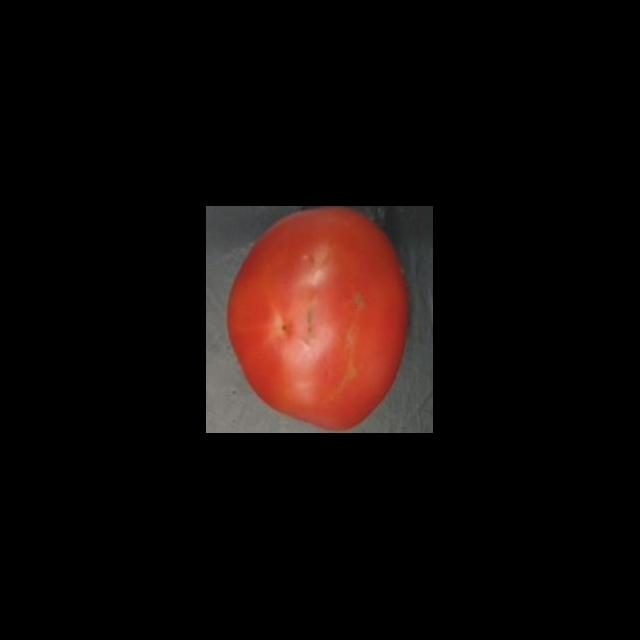tomato: (223, 206, 420, 434)
